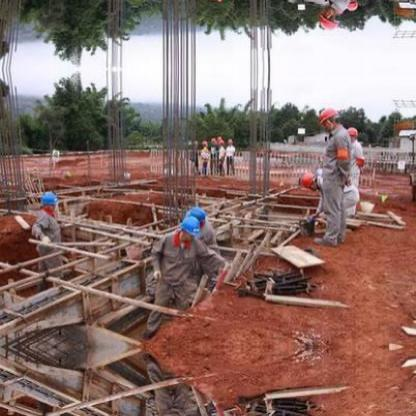helmet: (316, 106, 340, 130), (316, 6, 340, 30), (179, 216, 199, 237), (40, 188, 57, 212), (185, 207, 205, 226), (297, 170, 316, 186), (344, 124, 356, 140), (344, 0, 357, 13), (199, 138, 207, 146), (209, 135, 216, 144), (217, 138, 223, 146), (226, 138, 232, 145), (208, 0, 216, 2)
person: (144, 225, 225, 335), (143, 357, 225, 414), (299, 168, 360, 233), (317, 108, 345, 246), (32, 190, 68, 288), (188, 208, 222, 262), (345, 127, 364, 198), (317, 0, 346, 29), (226, 136, 237, 176), (208, 136, 217, 176), (216, 138, 225, 176), (200, 140, 209, 176)
